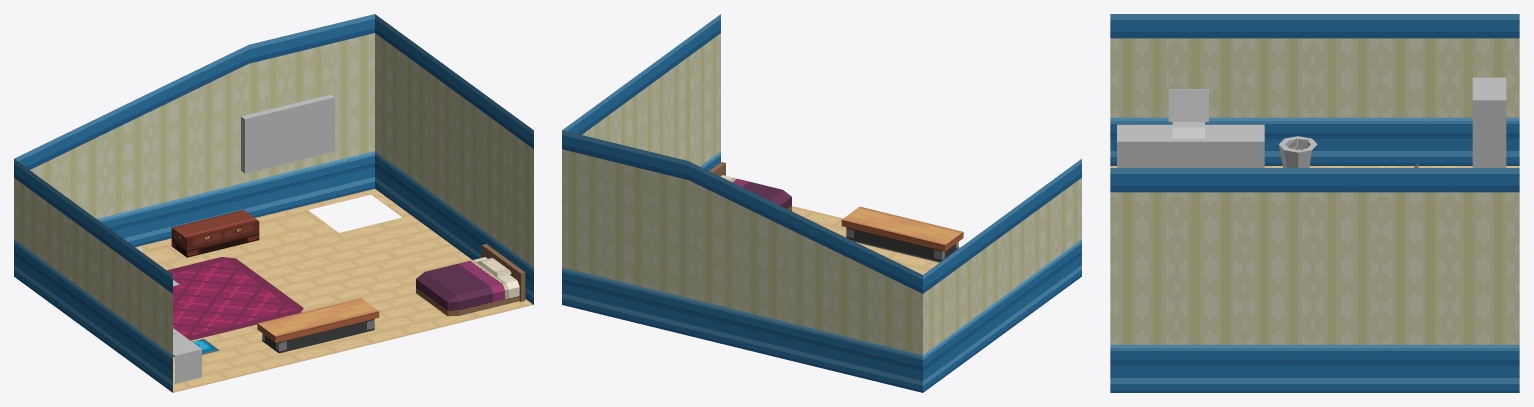
File: House1.fbx
3 renders of one model, left to right at view 1: azimuth 30°, elevation 25°; view 2: azimuth 150°, elevation 25°; view 3: azimuth 270°, elevation 25°, orthographic. The views are drawn at different scales.
Visible parts, largest first — view 1: polygon5, polygon3, polygon4, polygon1, polygon8, polygon13, polygon6, polygon11, polygon7, polygon16; view 2: polygon5, polygon3, polygon13, polygon4, polygon8; view 3: polygon5, polygon3, polygon16, polygon9, polygon17, polygon12, polygon4.
Boxes of the visible parts, x1,y1,x2,y2 form: polygon5: (14,33,533,354); polygon3: (14,14,533,392); polygon4: (135,188,533,392); polygon1: (167,257,303,340); polygon8: (416,244,525,316); polygon13: (257,298,379,353); polygon6: (241,94,334,173); polygon11: (171,210,259,257); polygon7: (251,106,328,162); polygon16: (173,328,201,383); polygon5: (562,33,1081,355); polygon3: (562,14,1081,392); polygon13: (841,206,963,262); polygon4: (792,206,960,274); polygon8: (709,162,791,210); polygon5: (1110,38,1519,344); polygon3: (1110,14,1519,392); polygon16: (1117,124,1264,167); polygon9: (1472,77,1506,167); polygon17: (1168,89,1208,138); polygon12: (1278,136,1317,167); polygon4: (1110,166,1519,167).
Size of the model in its own units: 2.5 by 1.16 by 1.91.
